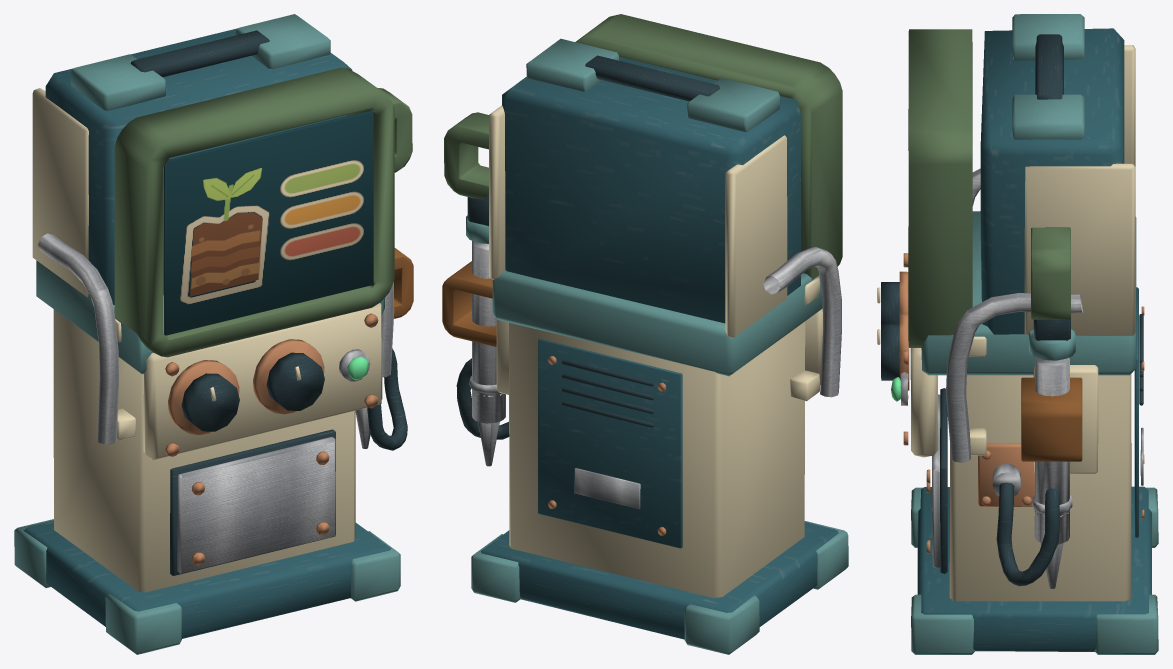
File: SoilScanner_Cozy_LOD2.fbx
The picture shows the model from 3 angles, left to right: view 1: azimuth 30°, elevation 25°; view 2: azimuth 150°, elevation 25°; view 3: azimuth 270°, elevation 25°; orthographic projection. The views are drawn at different scales.
Parts seen in each view (by area): view 1: ScannerMesh_Distance2; view 2: ScannerMesh_Distance2; view 3: ScannerMesh_Distance2.
Part boxes in pixels (<box>): ScannerMesh_Distance2: <box>14,14,413,654</box>; ScannerMesh_Distance2: <box>442,14,848,654</box>; ScannerMesh_Distance2: <box>877,14,1158,654</box>.
Bounding box in the file's own units: 104 × 149 × 72.27.
